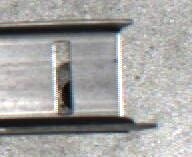40ngpress: (11, 19, 143, 131)
